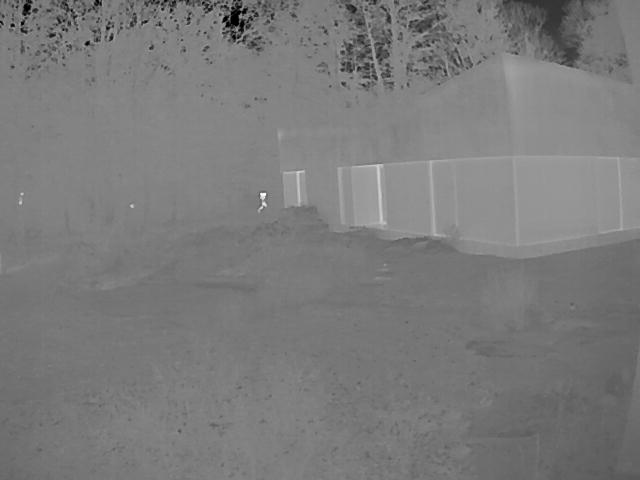person: (259, 191, 270, 212)
